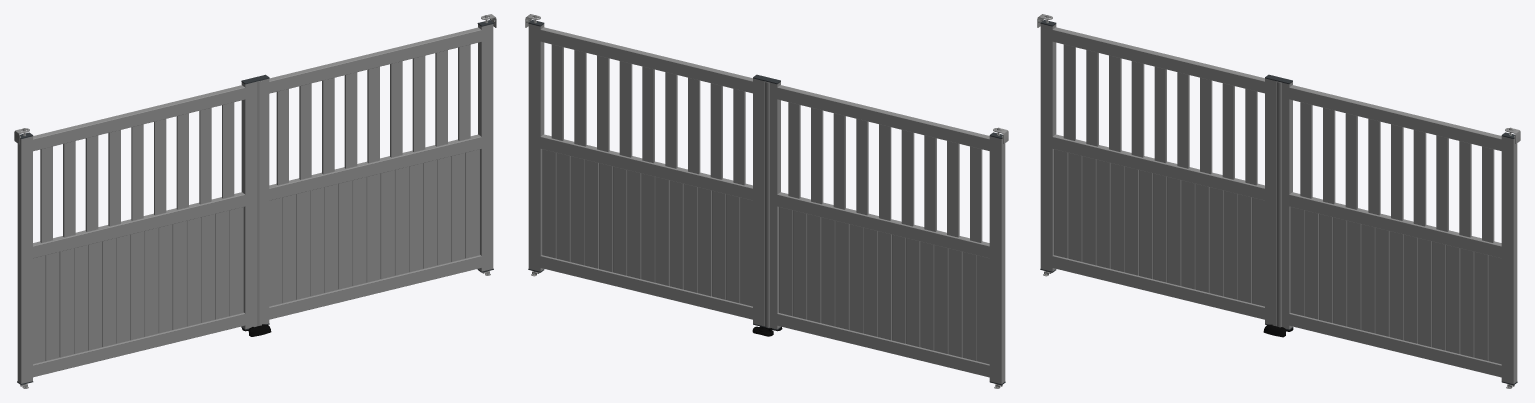
3 views of the same model, side by side, from view 1: azimuth 30°, elevation 25°; view 2: azimuth 150°, elevation 25°; view 3: azimuth 330°, elevation 25° (orthographic).
Visible parts, largest first — view 1: Shape107412643, Shape107412740, Shape107412638, Shape107412944, Shape096, Shape107412956, Shape107412940, Shape107412957, Shape107412941, Shape107412739, Shape107412949, Shape107412951 (+47 smaller); view 2: Shape107412643, Shape107412740, Shape096, Shape107412944, Shape107412956, Shape107412940, Shape107412739, Shape107412941, Shape107412957, Shape107412638, Shape098, Shape103 (+47 smaller); view 3: Shape107412740, Shape107412643, Shape107412944, Shape096, Shape107412956, Shape107412940, Shape107412638, Shape107412941, Shape107412957, Shape107412739, Shape099, Shape107412945 (+47 smaller).
Boxes of the visible parts, x1,y1,x2,y2 form: Shape107412643: [17, 136, 32, 383]; Shape107412740: [478, 24, 493, 271]; Shape107412638: [241, 81, 256, 329]; Shape107412944: [269, 27, 481, 93]; Shape096: [33, 85, 245, 151]; Shape107412956: [269, 134, 481, 200]; Shape107412940: [33, 192, 245, 258]; Shape107412957: [269, 255, 481, 319]; Shape107412941: [33, 312, 245, 377]; Shape107412739: [258, 78, 269, 324]; Shape107412949: [338, 180, 352, 289]; Shape107412951: [366, 173, 380, 282]; Shape107412643: [989, 136, 1005, 383]; Shape107412740: [528, 24, 544, 271]; Shape096: [777, 85, 989, 150]; Shape107412944: [540, 27, 752, 93]; Shape107412956: [540, 134, 752, 200]; Shape107412940: [777, 192, 989, 258]; Shape107412739: [753, 78, 764, 326]; Shape107412941: [777, 312, 989, 377]; Shape107412957: [540, 255, 752, 319]; Shape107412638: [765, 81, 780, 329]; Shape098: [948, 248, 962, 357]; Shape103: [877, 231, 891, 340]; Shape107412740: [1501, 136, 1517, 383]; Shape107412643: [1040, 24, 1056, 271]; Shape107412944: [1289, 85, 1501, 150]; Shape096: [1052, 27, 1264, 93]; Shape107412956: [1289, 192, 1501, 258]; Shape107412940: [1052, 134, 1264, 200]; Shape107412638: [1265, 78, 1276, 326]; Shape107412941: [1052, 255, 1264, 319]; Shape107412957: [1289, 313, 1501, 377]; Shape107412739: [1277, 81, 1292, 329]; Shape099: [1096, 159, 1110, 268]; Shape107412945: [1304, 210, 1318, 319].
Bounding box in the file's own units: 3260 × 1696 × 146.
7 materials, 2 textured.
